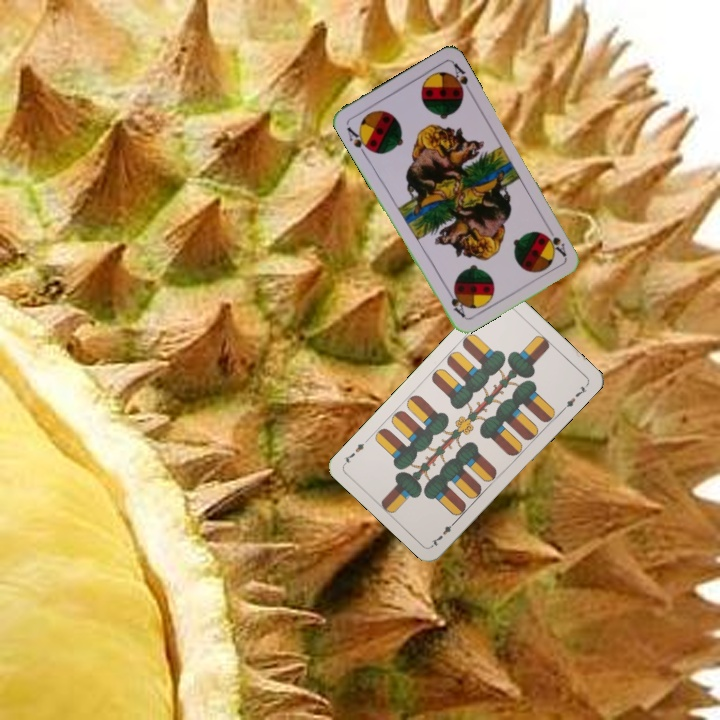E7: (427, 516, 459, 549)
SA: (539, 222, 569, 260), (343, 123, 374, 158)
